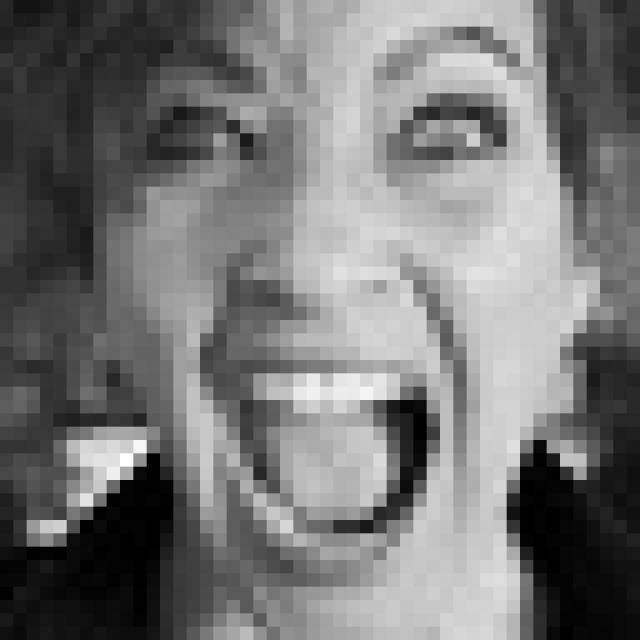angry: (106, 21, 533, 580)
